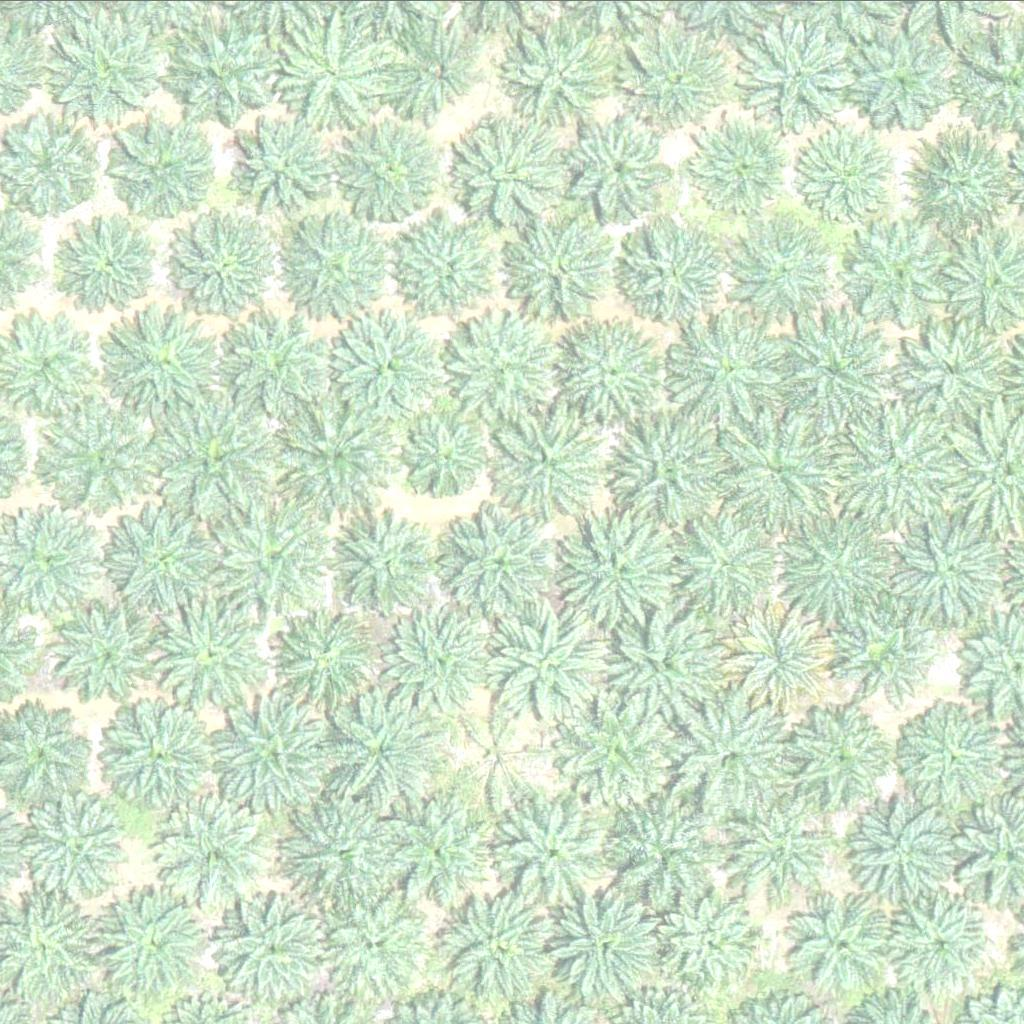Kelapa_Sawit: (96, 875, 222, 1000), (221, 306, 347, 431), (278, 392, 404, 517), (719, 408, 845, 533), (838, 402, 964, 527), (204, 890, 330, 1015), (104, 311, 218, 424), (556, 309, 670, 422), (490, 403, 604, 516), (671, 317, 785, 430), (153, 599, 267, 712), (443, 504, 557, 617), (50, 9, 163, 122), (48, 403, 161, 516), (53, 590, 166, 703), (99, 697, 212, 810), (510, 15, 623, 128), (339, 112, 452, 225), (461, 117, 574, 230), (169, 210, 282, 323), (282, 209, 395, 322), (741, 20, 854, 133), (896, 312, 1009, 425), (777, 310, 890, 423), (615, 417, 728, 530), (560, 516, 673, 629), (315, 886, 428, 999), (608, 799, 721, 912), (500, 791, 613, 904), (383, 795, 496, 908), (285, 801, 398, 914), (561, 695, 674, 808), (213, 501, 326, 614), (726, 601, 839, 714), (679, 699, 792, 812), (784, 703, 897, 816), (902, 127, 1016, 239), (838, 221, 952, 333), (154, 796, 268, 908), (214, 696, 328, 808), (391, 601, 505, 713), (2, 504, 115, 616), (104, 500, 217, 612), (28, 787, 141, 899), (169, 13, 282, 125), (400, 212, 513, 324), (508, 215, 621, 327), (336, 311, 449, 423), (447, 312, 560, 424), (158, 403, 271, 515), (670, 505, 783, 617), (779, 515, 892, 627), (890, 515, 1003, 627), (439, 884, 552, 996), (546, 888, 659, 1000), (326, 694, 439, 806), (610, 609, 723, 721), (488, 608, 601, 720), (724, 792, 837, 904), (448, 705, 549, 805), (286, 22, 387, 122), (380, 16, 481, 116), (627, 28, 728, 128), (116, 122, 217, 222), (233, 111, 334, 211), (567, 120, 668, 220), (666, 888, 767, 988), (904, 706, 1005, 806), (849, 799, 950, 899), (798, 891, 899, 991), (65, 209, 165, 309), (621, 225, 721, 325), (849, 25, 949, 125), (693, 120, 793, 220), (800, 124, 900, 224), (732, 219, 832, 319), (275, 610, 375, 710), (333, 511, 433, 611), (891, 890, 991, 990), (841, 609, 930, 696), (409, 422, 485, 497)
